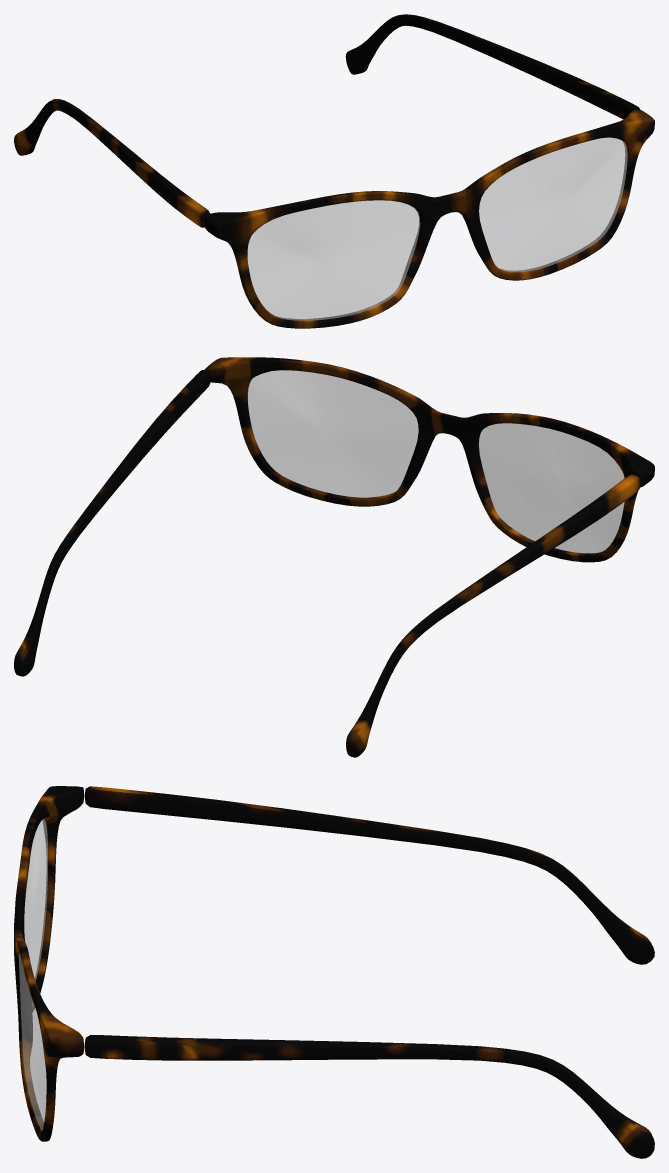
Rendered from Plastic_Textured.glb.
The picture shows the model from 3 angles, top to bottom: view 1: azimuth 30°, elevation 25°; view 2: azimuth 150°, elevation 25°; view 3: azimuth 270°, elevation 25°; orthographic projection. The views are drawn at different scales.
Parts seen in each view (by area): view 1: lens, frame, Left_Arm, Right_Arm; view 2: lens, frame, Right_Arm, Left_Arm; view 3: Left_Arm, Right_Arm, frame, lens.
Part boxes in pixels (box(x1,y1,x2,y2)): lens: box(247, 137, 627, 320); frame: box(204, 109, 654, 328); Left_Arm: box(345, 14, 640, 119); Right_Arm: box(14, 99, 209, 227); lens: box(247, 370, 624, 553); frame: box(204, 357, 654, 562); Right_Arm: box(346, 474, 640, 757); Left_Arm: box(14, 370, 210, 676); Left_Arm: box(84, 1035, 654, 1158); Right_Arm: box(84, 786, 654, 964); frame: box(14, 786, 83, 1141); lens: box(18, 819, 47, 1130).
Bounding box in the file's own units: 0.9803 × 0.2859 × 1.04.
Materials: 3 (2 with a texture image).
